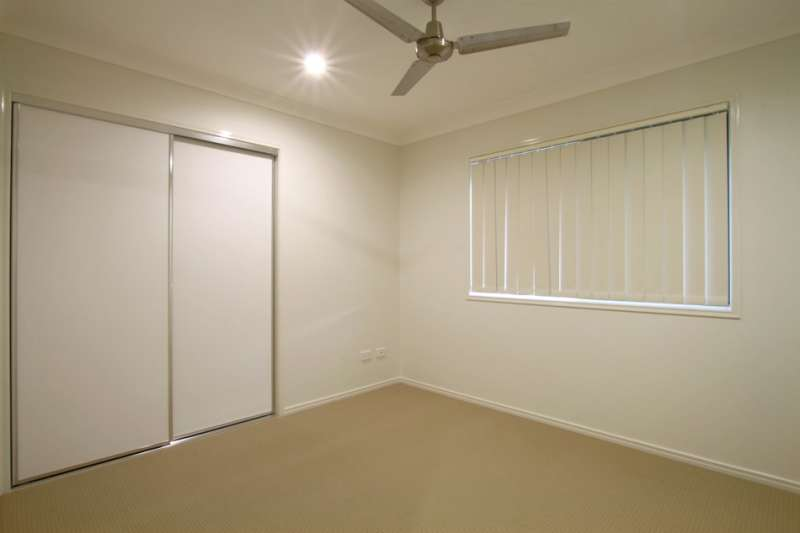ceiling fan: (329, 1, 584, 99)
